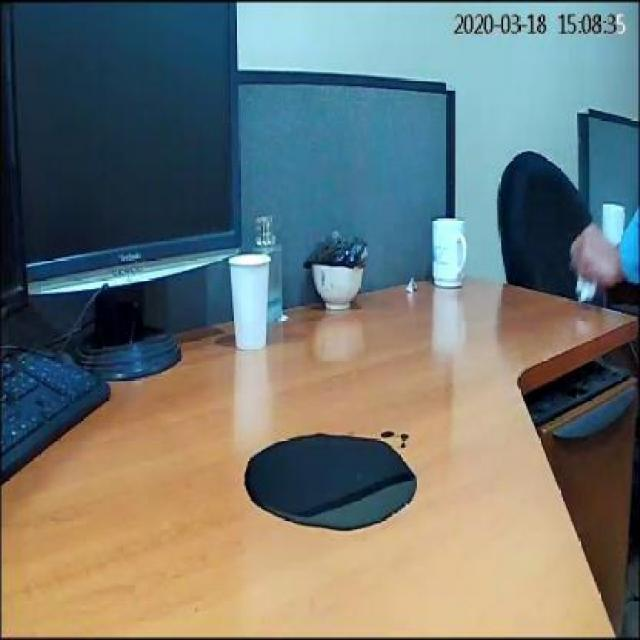spill: (248, 417, 423, 543)
